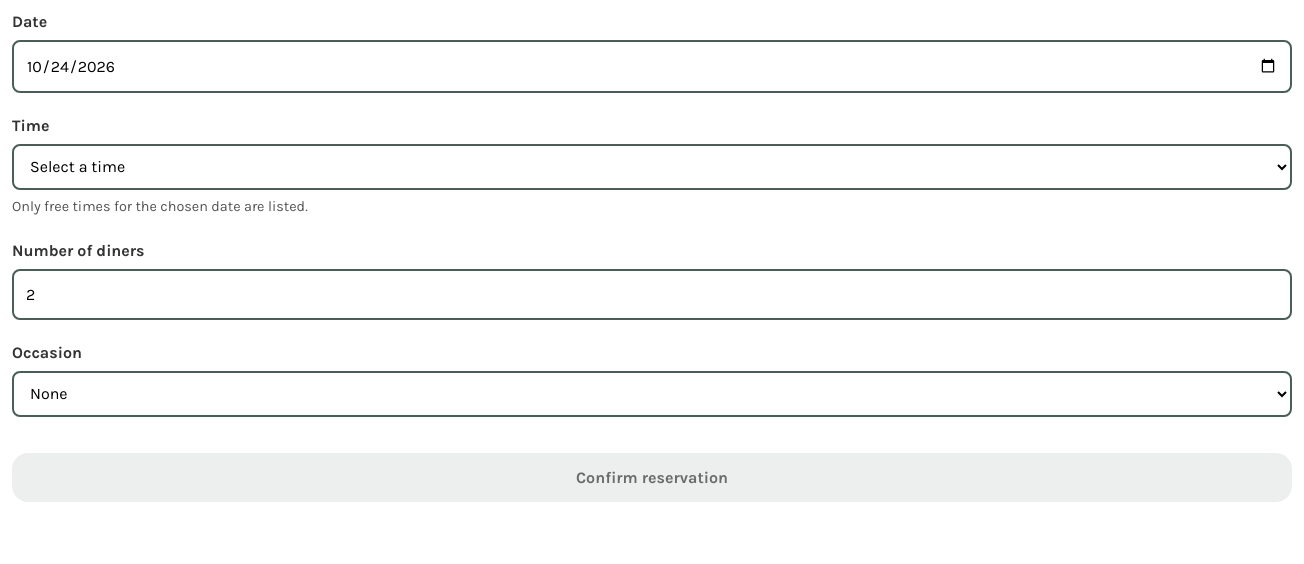
Scenario: shows an alert when the submission fails
Select "17:00" in the dropdown labelled "Time" at point(652, 167), box [12,144,1292,190]
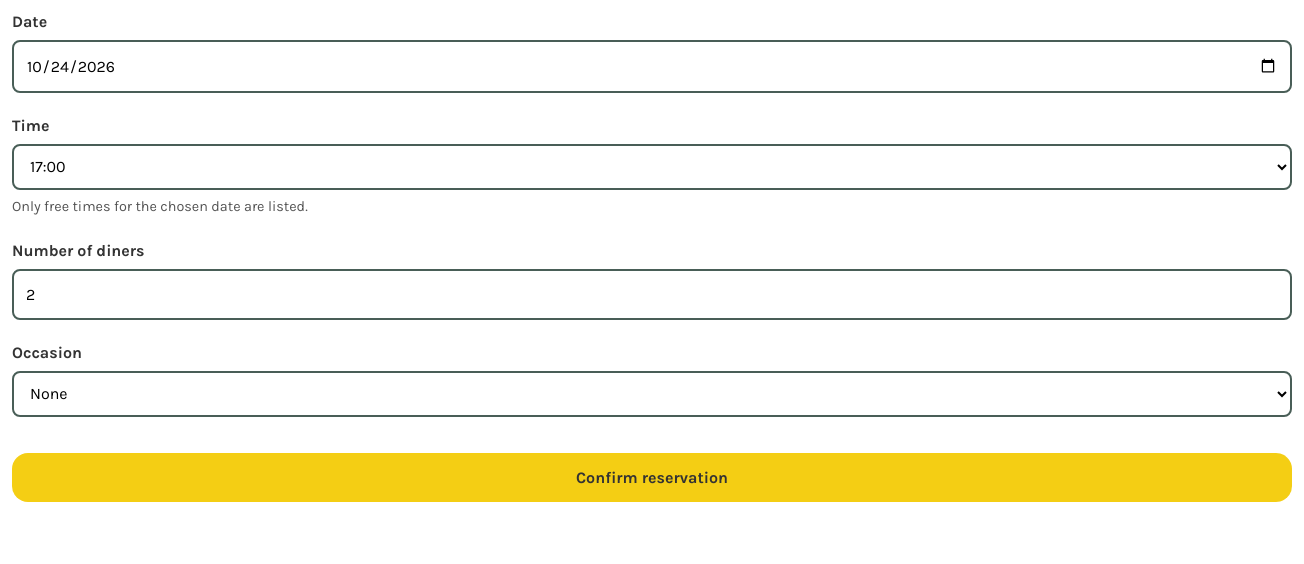
Click the button "Confirm reservation" at point(652, 478), box [12,453,1292,502]
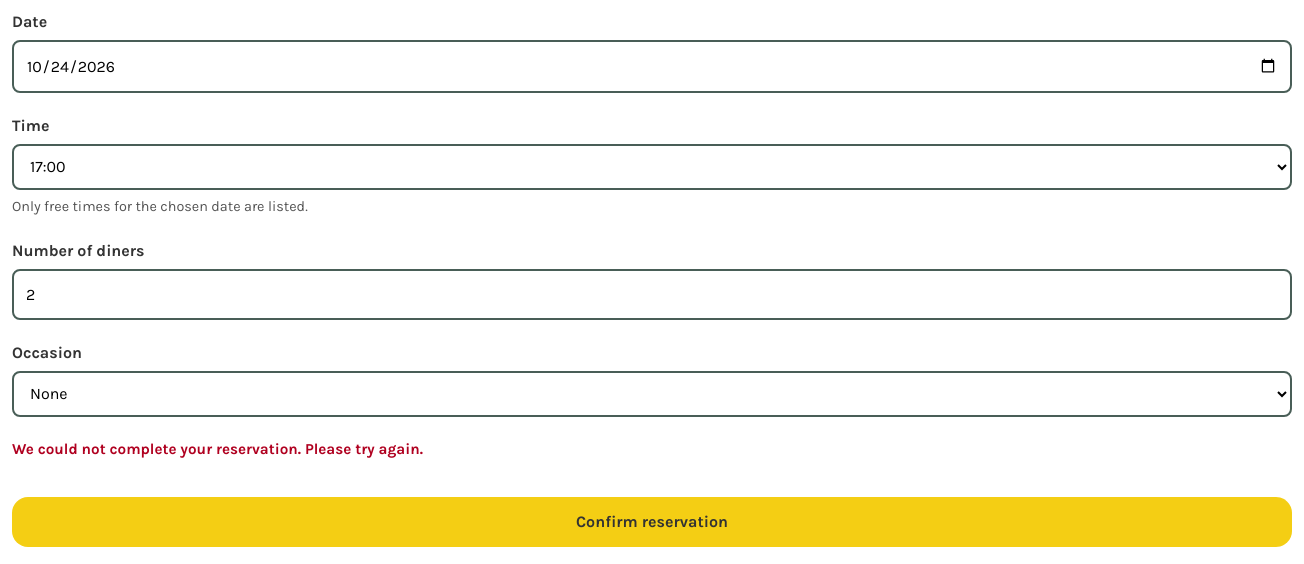
Expected: the message shows "We could not complete your reservation", [12,440,423,458]
